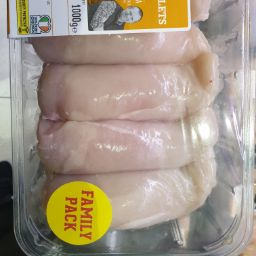Chicken breast: (26, 41, 222, 180), (114, 56, 230, 250), (34, 108, 230, 170), (37, 62, 231, 123), (103, 157, 224, 229)
